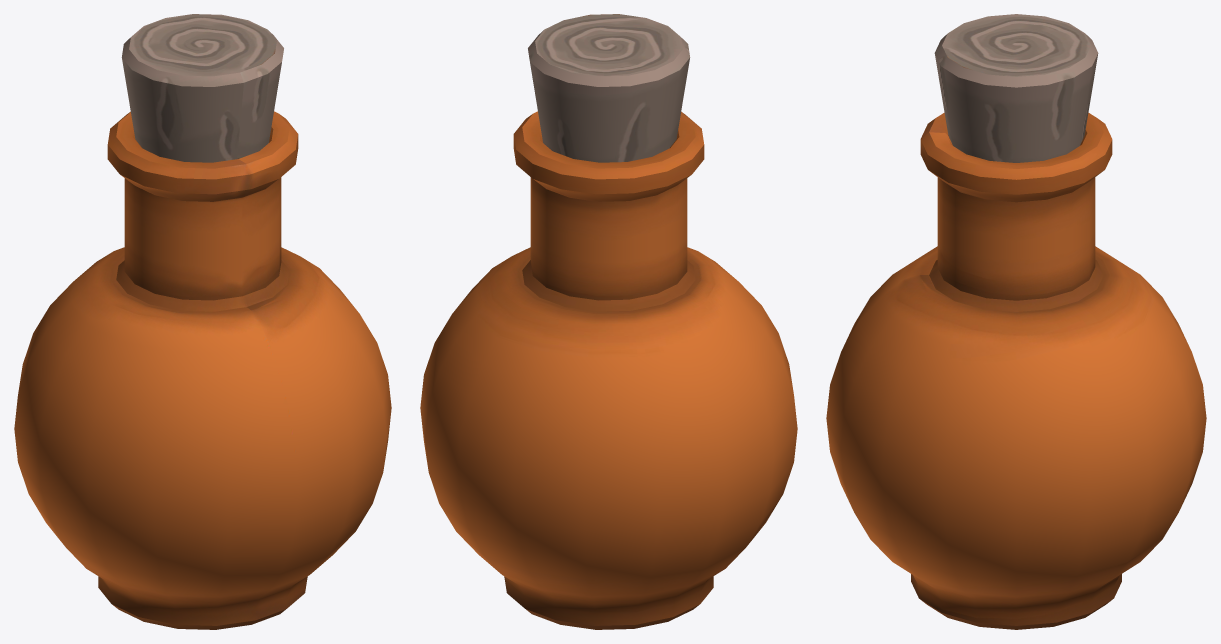
File: OrangePotion.fbx
3 views of the same model, side by side, from view 1: azimuth 30°, elevation 25°; view 2: azimuth 150°, elevation 25°; view 3: azimuth 270°, elevation 25° (orthographic).
Visible parts, largest first — view 1: OrangePotion; view 2: OrangePotion; view 3: OrangePotion.
Part boxes in pixels (x1,y1,x2,y2): OrangePotion: [14, 14, 391, 629]; OrangePotion: [420, 14, 797, 629]; OrangePotion: [826, 14, 1206, 629].
Size of the model in its own units: 40 by 40 by 63.09.
1 material, 1 textured.
